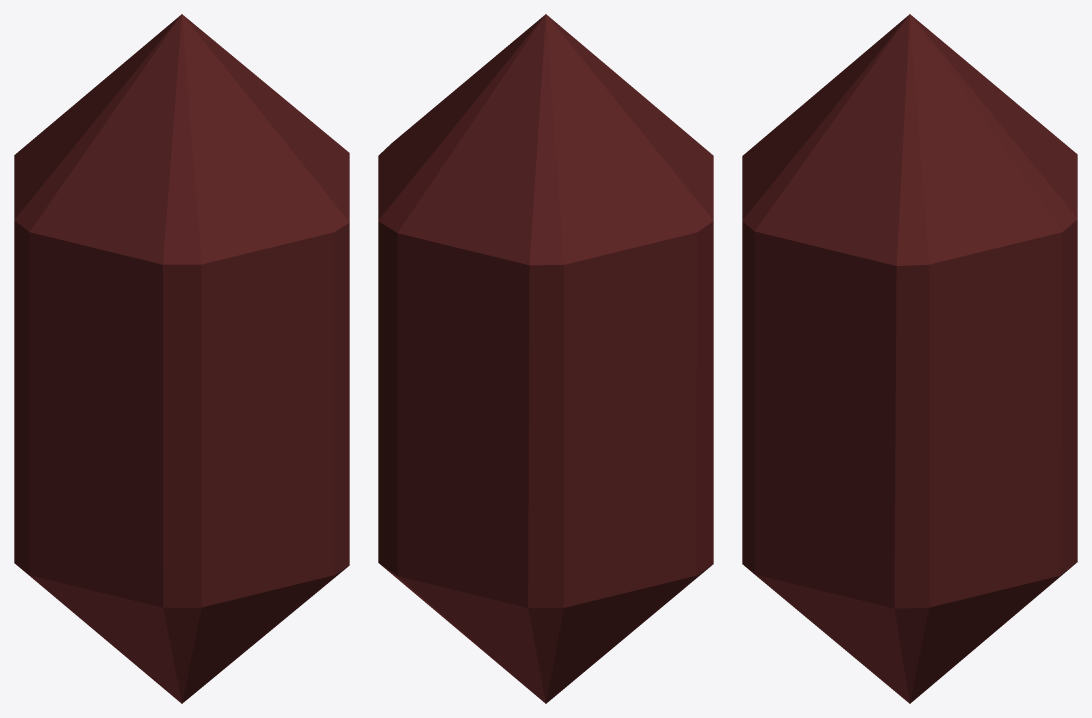
File: jewel1.glb
3 views of the same model, side by side, from view 1: azimuth 30°, elevation 25°; view 2: azimuth 150°, elevation 25°; view 3: azimuth 270°, elevation 25° (orthographic).
Visible parts, largest first — view 1: SM_Prop_Jewel_07; view 2: SM_Prop_Jewel_07; view 3: SM_Prop_Jewel_07.
Boxes of the visible parts, left/top/right/bottom form: SM_Prop_Jewel_07: left=14, top=14, right=349, bottom=703; SM_Prop_Jewel_07: left=378, top=14, right=713, bottom=703; SM_Prop_Jewel_07: left=742, top=14, right=1077, bottom=703.
Size of the model in its own units: 0.000631 by 0.0013 by 0.000571.
1 material, 1 textured.
